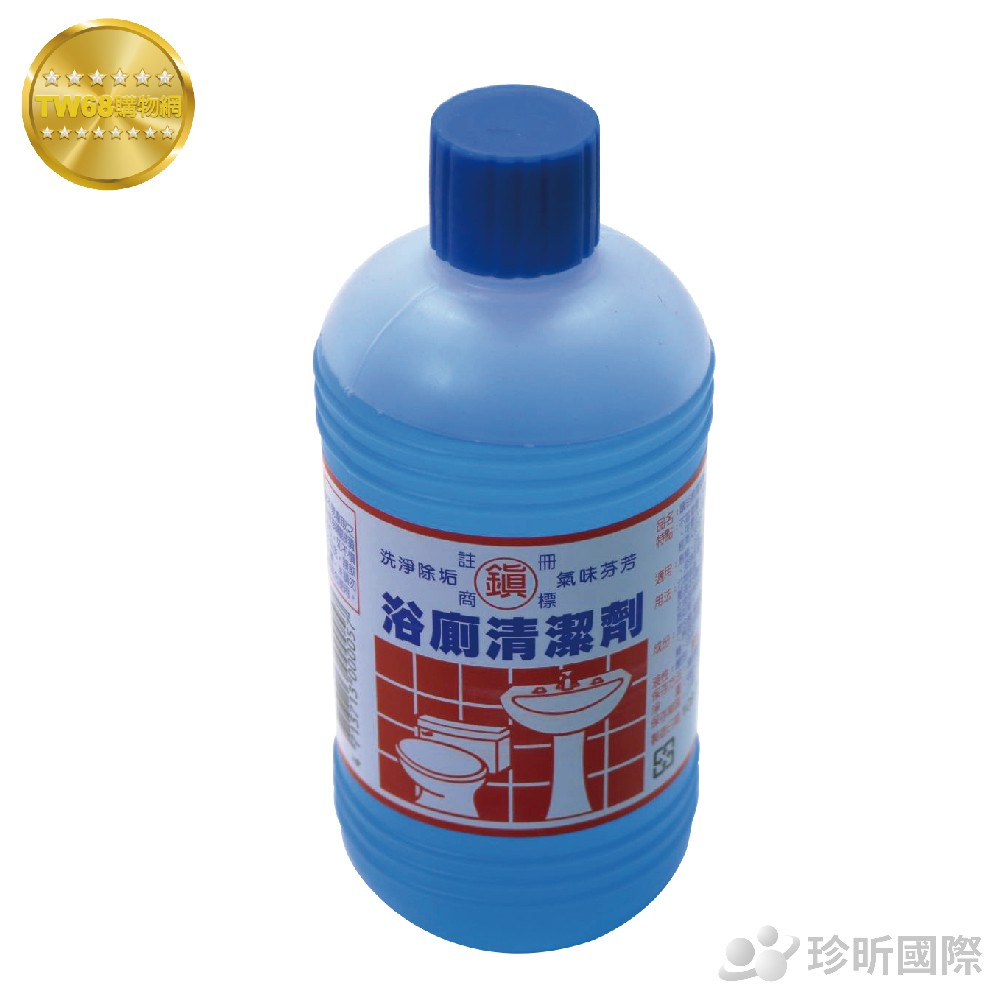cleaner: (280, 62, 754, 973)
